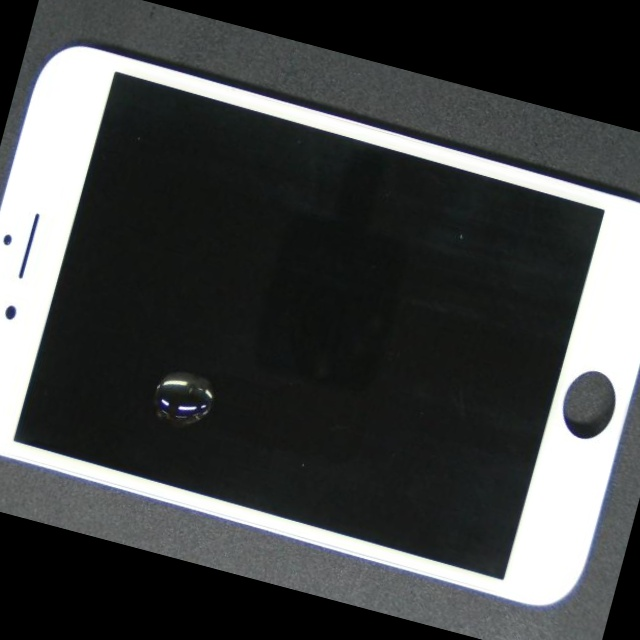oil: (48, 216, 388, 593)
